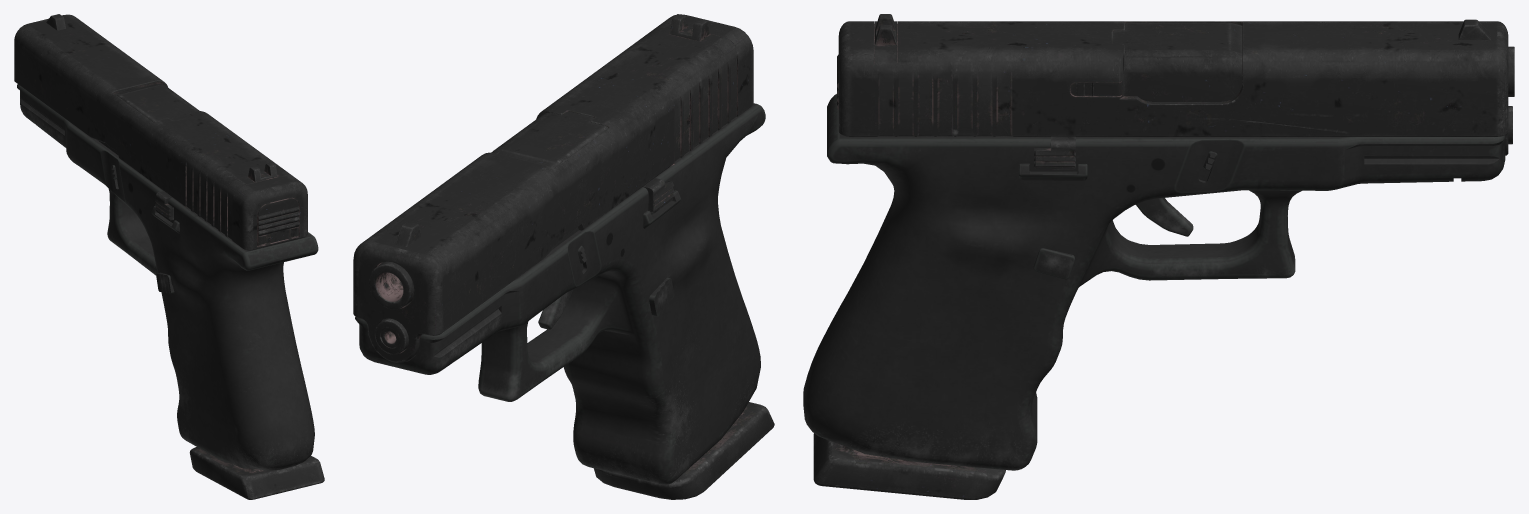
File: w_glock.glb
3 views of the same model, side by side, from view 1: azimuth 30°, elevation 25°; view 2: azimuth 150°, elevation 25°; view 3: azimuth 270°, elevation 25° (orthographic). The views are drawn at different scales.
Visible parts, largest first — view 1: body, slide, mag; view 2: body, slide, mag; view 3: body, slide, mag.
Boxes of the visible parts, x1,y1,x2,y2 form: body: (17,84,318,470); slide: (14,14,307,250); mag: (189,447,324,499); body: (355,103,765,484); slide: (353,14,753,362); mag: (594,402,774,499); body: (803,22,1514,470); slide: (837,14,1508,155); mag: (813,433,1005,499).
Size of the model in its own units: 0.0363 by 0.1341 by 0.19.
2 materials, 2 textured.
